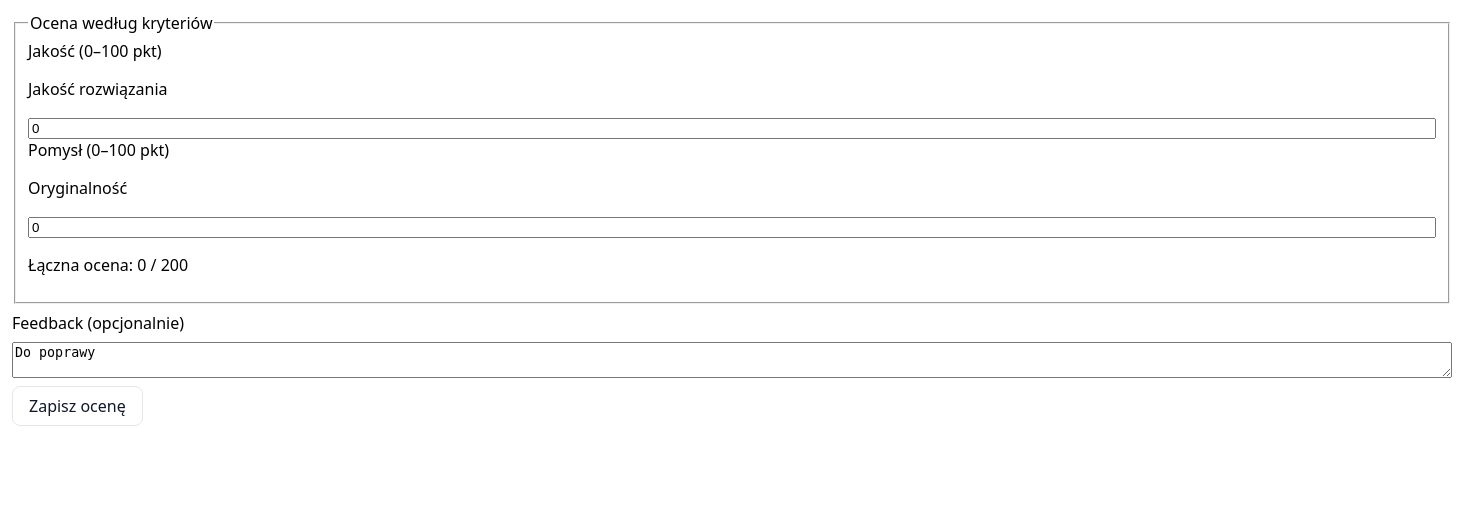
Test: EvaluationForm › prefills existing evaluation and preserves edits on a server error
Replace the text in the number field labelled "Jakość (0–100 pkt)" with "85" at (732, 128), box [28,118,1436,139]
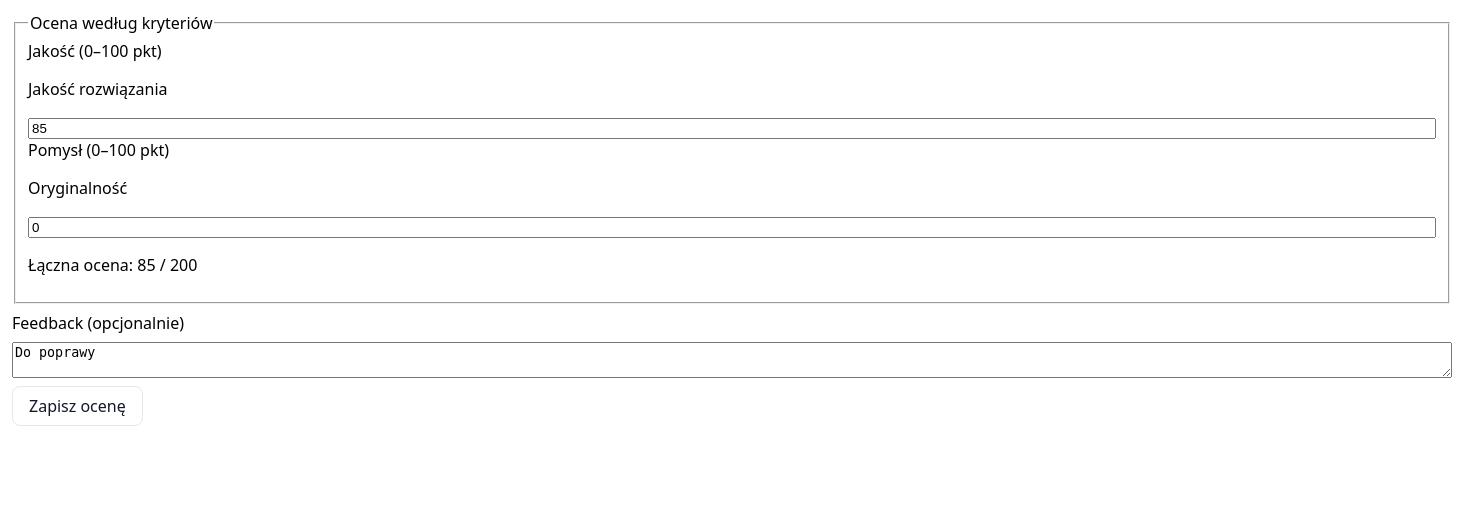
Click the button "Zapisz ocenę" at (77, 406), box [12,386,143,426]
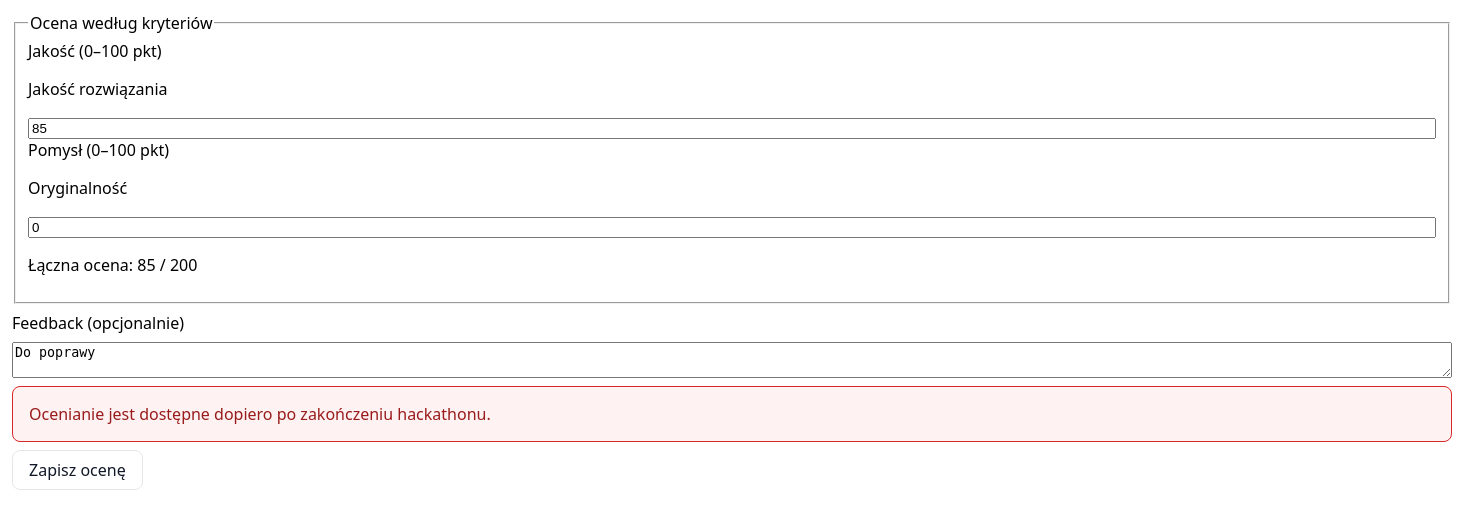
Now the message shows "dopiero po zakończeniu", box [29,403,491,425]
